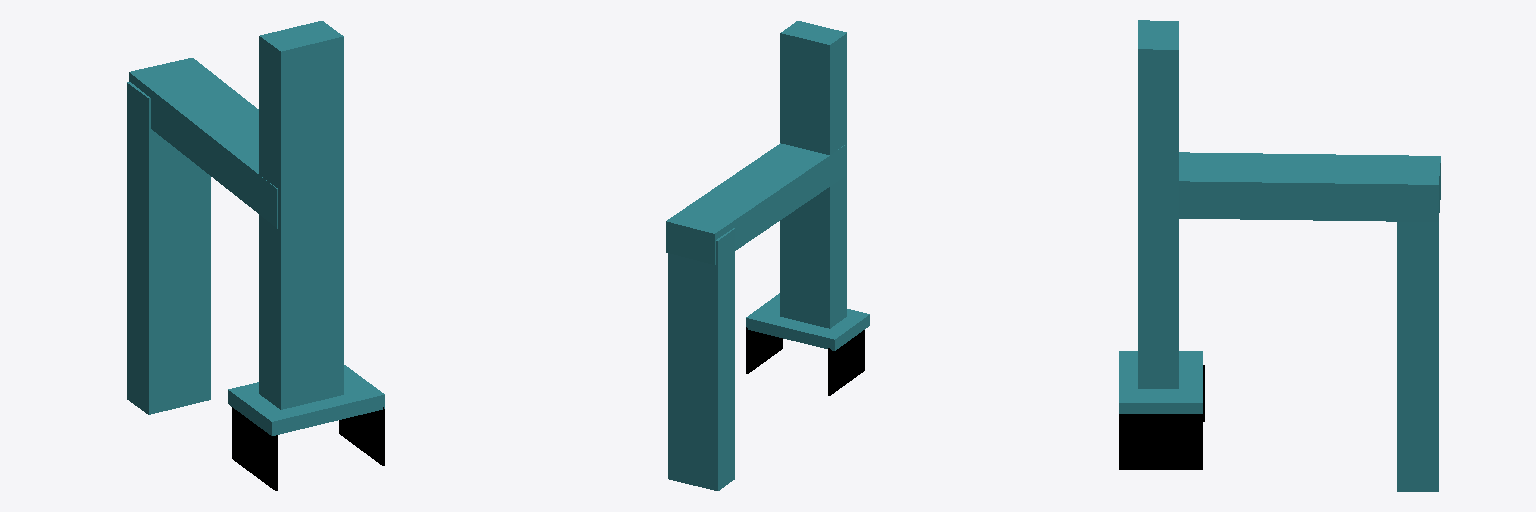
URDF robot description (Rover_Jonathan_Fisher):
<?xml version="1.0"?>
<!-- created with Phobos 1.0.1 "Capricious Choutengan" -->
  <robot name="Rover_Jonathan_Fisher">

    <link name="Barra_pinza_fixed">
      <inertial>
        <origin xyz="0 0 0" rpy="0 0 0"/>
        <mass value="0.001"/>
        <inertia ixx="0.001" ixy="0" ixz="0" iyy="0.001" iyz="0" izz="0.001"/>
      </inertial>
      <visual name="Cube.004">
        <origin xyz="0 0 0" rpy="0 0 0"/>
        <geometry>
          <box size="0.9 0.61 0.11"/>
        </geometry>
        <material name="brazo"/>
      </visual>
      <collision name="Cube.004">
        <origin xyz="0 0 0" rpy="0 0 0"/>
        <geometry>
          <box size="0.9 0.61 0.11"/>
        </geometry>
      </collision>
    </link>

    <link name="Barra_principal">
      <inertial>
        <origin xyz="0 0 -0.5" rpy="0 0 0"/>
        <mass value="60.0"/>
        <inertia ixx="0.001" ixy="0" ixz="0" iyy="0.001" iyz="0" izz="0.001"/>
      </inertial>
      <visual name="Cube.001">
        <origin xyz="0 0 -0.11" rpy="0 0 0"/>
        <geometry>
          <box size="0.5 0.3 2.41"/>
        </geometry>
        <material name="brazo"/>
      </visual>
      <collision name="Cube.001">
        <origin xyz="0 0 -0.1" rpy="0 0 0"/>
        <geometry>
          <box size="0.5 0.3 2.41"/>
        </geometry>
      </collision>
    </link>

    <link name="P_abajo">
      <inertial>
        <origin xyz="0 0 0" rpy="0 0 0"/>
        <mass value="0.001"/>
        <inertia ixx="0.001" ixy="0" ixz="0" iyy="0.001" iyz="0" izz="0.001"/>
      </inertial>
      <collision name="Cube.006">
        <origin xyz="0 0 0.01283" rpy="0 0 0"/>
        <geometry>
          <box size="1.67 2.0 0.001"/>
        </geometry>
      </collision>
    </link>

    <link name="P_atras">
      <inertial>
        <origin xyz="0 0 0" rpy="0 0 0"/>
        <mass value="0.001"/>
        <inertia ixx="0.001" ixy="0" ixz="0" iyy="0.001" iyz="0" izz="0.001"/>
      </inertial>
      <collision name="Plane">
        <origin xyz="0 0 0" rpy="0 0 0"/>
        <geometry>
          <box size="1.8 1.36 0"/>
        </geometry>
      </collision>
    </link>

    <link name="P_derecha">
      <inertial>
        <origin xyz="0 0 0" rpy="0 0 0"/>
        <mass value="0.001"/>
        <inertia ixx="0.001" ixy="0" ixz="0" iyy="0.001" iyz="0" izz="0.001"/>
      </inertial>
      <collision name="Plane">
        <origin xyz="0 0 0" rpy="0 0 0"/>
        <geometry>
          <box size="1.77 1.13 0"/>
        </geometry>
      </collision>
    </link>

    <link name="Pinza_L">
      <inertial>
        <origin xyz="0 0 -0.03" rpy="0 0 0"/>
        <mass value="10.0"/>
        <inertia ixx="0.001" ixy="0" ixz="0" iyy="0.001" iyz="0" izz="0.001"/>
      </inertial>
      <visual name="Cube.005">
        <origin xyz="0 0 0" rpy="0 0 0"/>
        <geometry>
          <box size="0.45 0.61 0.02"/>
        </geometry>
        <material name="Material.001"/>
      </visual>
      <collision name="Cube.005">
        <origin xyz="0 0 0" rpy="3.14159 0 0"/>
        <geometry>
          <box size="0.45 0.61 0.02"/>
        </geometry>
      </collision>
    </link>

    <link name="Pinza_R">
      <inertial>
        <origin xyz="0 0 0.15" rpy="0 0 0"/>
        <mass value="10.0"/>
        <inertia ixx="0.001" ixy="0" ixz="0" iyy="0.001" iyz="0" izz="0.001"/>
      </inertial>
      <visual name="Cube">
        <origin xyz="0 0 0" rpy="0 0 0"/>
        <geometry>
          <box size="0.45 0.61 0.02"/>
        </geometry>
        <material name="Material.002"/>
      </visual>
      <collision name="Cube">
        <origin xyz="0 0 0" rpy="0 0 0"/>
        <geometry>
          <box size="0.45 0.61 0.02"/>
        </geometry>
      </collision>
    </link>

    <link name="Untitled">
      <inertial>
        <origin xyz="0 0 0" rpy="0 0 0"/>
        <mass value="0.001"/>
        <inertia ixx="0.001" ixy="0" ixz="0" iyy="0.001" iyz="0" izz="0.001"/>
      </inertial>
      <collision name="Plane">
        <origin xyz="0 0 0" rpy="0 0 0"/>
        <geometry>
          <box size="1.41 2.2 0"/>
        </geometry>
      </collision>
    </link>

    <link name="Untitled.001">
      <inertial>
        <origin xyz="0 0 0" rpy="0 0 0"/>
        <mass value="0.001"/>
        <inertia ixx="0.001" ixy="0" ixz="0" iyy="0.001" iyz="0" izz="0.001"/>
      </inertial>
      <collision name="Plane">
        <origin xyz="0 0 0" rpy="0 0 0"/>
        <geometry>
          <box size="1.71 1.28 0"/>
        </geometry>
      </collision>
    </link>

    <link name="barra_fixed">
      <inertial>
        <origin xyz="0 0 0" rpy="0 0 0"/>
        <mass value="30.0"/>
        <inertia ixx="0.001" ixy="0" ixz="0" iyy="0.001" iyz="0" izz="0.001"/>
      </inertial>
      <visual name="Cube.002">
        <origin xyz="-0.90353 0 0" rpy="0 -1.5708 0"/>
        <geometry>
          <box size="0.5 0.30001 2.17"/>
        </geometry>
        <material name="brazo"/>
      </visual>
      <collision name="Cube.002">
        <origin xyz="-0.90353 0 0" rpy="0 -1.5708 0"/>
        <geometry>
          <box size="0.5 0.3 2.17"/>
        </geometry>
      </collision>
    </link>

    <link name="barra_sube_baja">
      <inertial>
        <origin xyz="0 0 0.15" rpy="0 0 0"/>
        <mass value="20.0"/>
        <inertia ixx="0.001" ixy="0" ixz="0" iyy="0.001" iyz="0" izz="0.001"/>
      </inertial>
      <visual name="Cube.003">
        <origin xyz="-0.05 -0.03 0.66272" rpy="0 0 0"/>
        <geometry>
          <box size="0.5 0.3 2.74"/>
        </geometry>
        <material name="brazo"/>
      </visual>
      <collision name="Cube.003">
        <origin xyz="-0.05 -0.03 0.66272" rpy="0 0 0"/>
        <geometry>
          <box size="0.5 0.3 2.7"/>
        </geometry>
      </collision>
    </link>

    <link name="coche">
      <inertial>
        <origin xyz="0 0 -0.0021" rpy="0 0 0"/>
        <mass value="500.0"/>
        <inertia ixx="114.54339" ixy="2.59267" ixz="-7.60408" iyy="45.98467" iyz="7.01369" izz="128.17601"/>
      </inertial>
      <visual name="car">
        <origin xyz="0 0 0" rpy="0 0 0"/>
        <geometry>
          <mesh filename="../meshes/dae/Cube.dae" scale="1.0 1.715 0.78246"/>
        </geometry>
        <material name="Material"/>
      </visual>
    </link>

    <link name="esfera">
      <inertial>
        <origin xyz="0 0 0" rpy="0 0 0"/>
        <mass value="30.0"/>
        <inertia ixx="0.001" ixy="0" ixz="0" iyy="0.001" iyz="0" izz="0.001"/>
      </inertial>
      <visual name="Sphere">
        <origin xyz="0 0 0" rpy="0 0 0"/>
        <geometry>
          <mesh filename="../meshes/dae/Sphere.dae" scale="0.5 0.5 0.5"/>
        </geometry>
        <material name="brazo"/>
      </visual>
      <collision name="Sphere">
        <origin xyz="0 0 0" rpy="0 0 0"/>
        <geometry>
          <sphere radius="0.5"/>
        </geometry>
      </collision>
    </link>

    <link name="rueda1">
      <inertial>
        <origin xyz="0 0 0" rpy="0 0 0"/>
        <mass value="10.0"/>
        <inertia ixx="0.18726" ixy="0" ixz="0" iyy="0.09682" iyz="0" izz="3.78202"/>
      </inertial>
      <visual name="rueda3.001">
        <origin xyz="0 0 0" rpy="0 0 0"/>
        <geometry>
          <mesh filename="../meshes/dae/Torus.007.dae" scale="0.4 0.4 1.0"/>
        </geometry>
        <material name="rueda"/>
      </visual>
      <collision name="rueda3.001.000">
        <origin xyz="0 0 0" rpy="0 0 0"/>
        <geometry>
          <mesh filename="../meshes/dae/Torus.001.dae" scale="1.0 1.0 1.0"/>
        </geometry>
      </collision>
    </link>

    <link name="rueda2">
      <inertial>
        <origin xyz="0 0 0" rpy="0 0 0"/>
        <mass value="10.0"/>
        <inertia ixx="1.17034" ixy="0" ixz="0" iyy="0.70986" iyz="0" izz="0.70986"/>
      </inertial>
      <visual name="rueda4.001">
        <origin xyz="0 0 0" rpy="0 0 0"/>
        <geometry>
          <mesh filename="../meshes/dae/Torus.008.dae" scale="0.4 0.4 1.0"/>
        </geometry>
        <material name="rueda"/>
      </visual>
      <collision name="rueda4.001.000">
        <origin xyz="0 0 0" rpy="0 0 0"/>
        <geometry>
          <mesh filename="../meshes/dae/Torus.000.dae" scale="1.0 1.0 1.0"/>
        </geometry>
      </collision>
    </link>

    <link name="rueda3">
      <inertial>
        <origin xyz="0 0 0" rpy="0 0 0"/>
        <mass value="10.0"/>
        <inertia ixx="1.17034" ixy="0" ixz="0" iyy="0.70986" iyz="0" izz="0.70986"/>
      </inertial>
      <visual name="rueda2.001">
        <origin xyz="0 0 0" rpy="0 0 0"/>
        <geometry>
          <mesh filename="../meshes/dae/Torus.003.dae" scale="0.4 0.4 1.0"/>
        </geometry>
        <material name="rueda"/>
      </visual>
      <collision name="rueda2.001.000">
        <origin xyz="0 0 0" rpy="0 0 0"/>
        <geometry>
          <mesh filename="../meshes/dae/Torus.004.dae" scale="1.0 1.0 1.0"/>
        </geometry>
      </collision>
    </link>

    <link name="rueda4">
      <inertial>
        <origin xyz="0 0 0" rpy="0 0 0"/>
        <mass value="10.0"/>
        <inertia ixx="1.17034" ixy="0" ixz="0" iyy="0.70986" iyz="0" izz="0.70986"/>
      </inertial>
      <visual name="rueda1.001">
        <origin xyz="0 0 0" rpy="0 0 0"/>
        <geometry>
          <mesh filename="../meshes/dae/Torus.006.dae" scale="0.4 0.4 1.0"/>
        </geometry>
        <material name="rueda"/>
      </visual>
      <collision name="rueda1.001.000">
        <origin xyz="0 0 0" rpy="0 0 0"/>
        <geometry>
          <mesh filename="../meshes/dae/Torus.002.dae" scale="1.0 1.0 1.0"/>
        </geometry>
      </collision>
    </link>

    <joint name="Barra_pinza_fixed" type="fixed">
      <origin xyz="0 -0.01222 -0.7498" rpy="0 0 0"/>
      <parent link="barra_sube_baja"/>
      <child link="Barra_pinza_fixed"/>
    </joint>

    <joint name="Barra_principal" type="prismatic">
      <origin xyz="0 -1.3 1.50313" rpy="0 0 0"/>
      <parent link="coche"/>
      <child link="Barra_principal"/>
      <axis xyz="0 0 1.0"/>
      <limit lower="-0.82" upper="0.5" effort="0" velocity="0"/>
    </joint>

    <joint name="P_abajo" type="floating">
      <origin xyz="-0.13097 0.46899 -0.78586" rpy="0 0 0"/>
      <parent link="coche"/>
      <child link="P_abajo"/>
    </joint>

    <joint name="P_atras" type="floating">
      <origin xyz="0.00012 1.51088 0.10075" rpy="1.5708 0 0"/>
      <parent link="coche"/>
      <child link="P_atras"/>
    </joint>

    <joint name="P_derecha" type="floating">
      <origin xyz="-0.7846 0.50205 0.06662" rpy="1.5708 0 1.5708"/>
      <parent link="coche"/>
      <child link="P_derecha"/>
    </joint>

    <joint name="Pinza_L" type="prismatic">
      <origin xyz="-0.39871 0.01611 -0.26543" rpy="3.14159 1.5708 0"/>
      <parent link="Barra_pinza_fixed"/>
      <child link="Pinza_L"/>
      <axis xyz="0 0 1.0"/>
      <limit lower="-0.2" upper="0" effort="0" velocity="0"/>
    </joint>

    <joint name="Pinza_R" type="prismatic">
      <origin xyz="0.44 0 -0.26" rpy="0 1.5708 0"/>
      <parent link="Barra_pinza_fixed"/>
      <child link="Pinza_R"/>
      <axis xyz="0 0 1.0"/>
      <limit lower="-0.2" upper="0" effort="0" velocity="0"/>
    </joint>

    <joint name="Untitled" type="floating">
      <origin xyz="0.81387 0.60732 -0.01647" rpy="0 1.5708 0"/>
      <parent link="coche"/>
      <child link="Untitled"/>
    </joint>

    <joint name="Untitled.001" type="floating">
      <origin xyz="0.04728 -0.52958 0.01956" rpy="1.5708 0 0"/>
      <parent link="coche"/>
      <child link="Untitled.001"/>
    </joint>

    <joint name="barra_fixed" type="fixed">
      <origin xyz="0.03695 -0.02274 0.17047" rpy="1.5708 0 1.53837"/>
      <parent link="esfera"/>
      <child link="barra_fixed"/>
    </joint>

    <joint name="barra_sube_baja" type="prismatic">
      <origin xyz="-1.83756 -0.82282 0.05342" rpy="-1.5708 -1.54235 0"/>
      <parent link="barra_fixed"/>
      <child link="barra_sube_baja"/>
      <axis xyz="0 0 1.0"/>
      <limit lower="-1.17" upper="0.9" effort="0" velocity="0"/>
    </joint>

    <joint name="esfera" type="continuous">
      <origin xyz="-0.01713 0.0009 0.84188" rpy="0 0 0"/>
      <parent link="Barra_principal"/>
      <child link="esfera"/>
      <axis xyz="0 0 1.0"/>
      <limit effort="0" velocity="0"/>
    </joint>

    <joint name="rueda1" type="continuous">
      <origin xyz="1.5 1.47 -1.17" rpy="0 1.5708 0"/>
      <parent link="coche"/>
      <child link="rueda1"/>
      <axis xyz="0 0 1.0"/>
      <limit effort="0" velocity="0"/>
    </joint>

    <joint name="rueda2" type="continuous">
      <origin xyz="1.5 -1.47 -1.17" rpy="0 1.5708 0"/>
      <parent link="coche"/>
      <child link="rueda2"/>
      <axis xyz="0 0 1.0"/>
      <limit effort="0" velocity="0"/>
    </joint>

    <joint name="rueda3" type="continuous">
      <origin xyz="-1.5 1.47 -1.17" rpy="0 1.5708 0"/>
      <parent link="coche"/>
      <child link="rueda3"/>
      <axis xyz="0 0 1.0"/>
      <limit effort="0" velocity="0"/>
    </joint>

    <joint name="rueda4" type="continuous">
      <origin xyz="-1.5 -1.47 -1.17" rpy="0 1.5708 0"/>
      <parent link="coche"/>
      <child link="rueda4"/>
      <axis xyz="0 0 1.0"/>
      <limit effort="0" velocity="0"/>
    </joint>

    <material name="Material">
      <color rgba="0.34709 0.24198 0.8 1.0"/>
    </material>

    <material name="Material.001">
      <color rgba="0 0 0 1.0"/>
    </material>

    <material name="Material.002">
      <color rgba="0 0 0 1.0"/>
    </material>

    <material name="brazo">
      <color rgba="0.26936 0.6037 0.64 1.0"/>
    </material>

    <material name="rueda">
      <color rgba="0.08037 0.08037 0.08037 1.0"/>
    </material>

  </robot>

--- Render facts (derived) ---
3 views of the same robot in one strip: view 1: azimuth 30°, elevation 25°; view 2: azimuth 150°, elevation 25°; view 3: azimuth 270°, elevation 25° (orthographic).
Model Rover_Jonathan_Fisher with 17 links and 16 joints (5 continuous, 4 prismatic, 2 fixed, 5 floating), rooted at coche, posed every joint at zero.
Visible links, largest first — view 1: barra_sube_baja, Barra_principal, barra_fixed, Barra_pinza_fixed, Pinza_L, Pinza_R; view 2: barra_sube_baja, Barra_principal, barra_fixed, Barra_pinza_fixed, Pinza_L, Pinza_R; view 3: barra_fixed, barra_sube_baja, Barra_principal, Pinza_R, Barra_pinza_fixed.
Boxes of the visible links, left/top/right/bottom form: barra_sube_baja: left=259, top=21, right=343, bottom=409; Barra_principal: left=127, top=82, right=210, bottom=414; barra_fixed: left=129, top=58, right=277, bottom=228; Barra_pinza_fixed: left=228, top=365, right=384, bottom=435; Pinza_L: left=232, top=407, right=277, bottom=490; Pinza_R: left=339, top=407, right=384, bottom=465; barra_sube_baja: left=780, top=21, right=846, bottom=328; Barra_principal: left=668, top=228, right=734, bottom=490; barra_fixed: left=666, top=143, right=845, bottom=264; Barra_pinza_fixed: left=746, top=293, right=869, bottom=350; Pinza_L: left=828, top=330, right=864, bottom=395; Pinza_R: left=746, top=327, right=782, bottom=373; barra_fixed: left=1179, top=152, right=1440, bottom=221; barra_sube_baja: left=1138, top=20, right=1178, bottom=388; Barra_principal: left=1397, top=222, right=1438, bottom=491; Pinza_R: left=1119, top=414, right=1202, bottom=469; Barra_pinza_fixed: left=1119, top=351, right=1202, bottom=413.
Size in the robot's own frame: 0.9024 by 2.35 by 3.54 metres.
Geometry: only primitive shapes (box / cylinder / sphere) drawn; not drawn: 6 mesh visuals (reference in a form the renderer does not follow).
